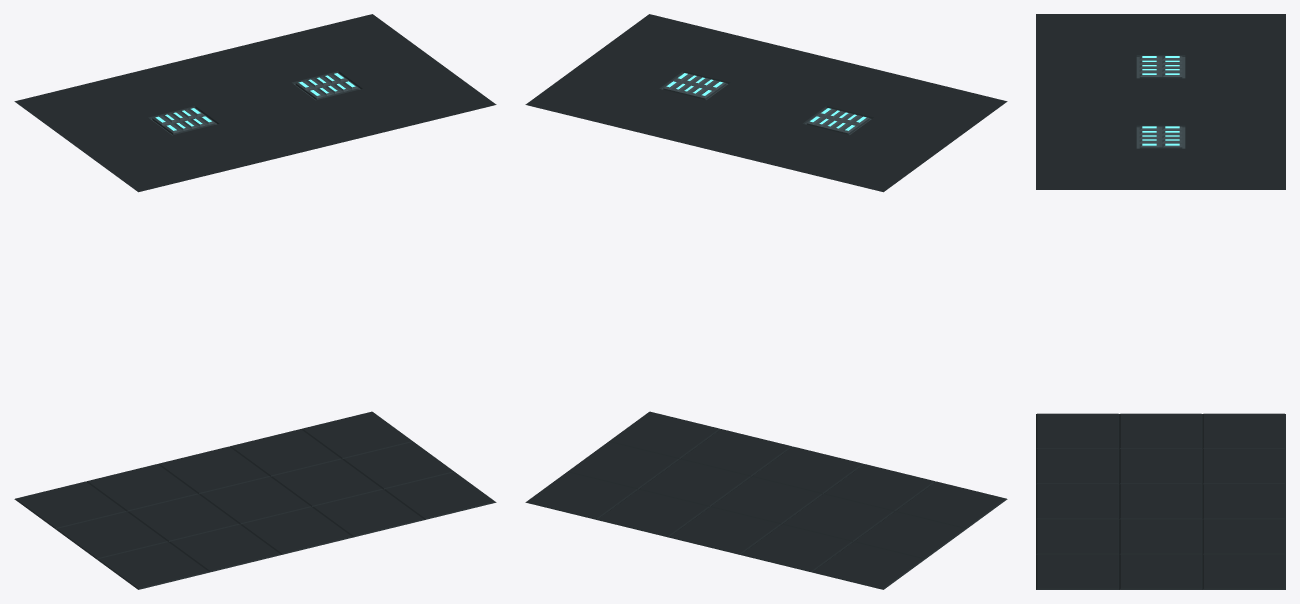
Rendered from hallC90Mid02.fbx.
3 views of the same model, side by side, from view 1: azimuth 30°, elevation 25°; view 2: azimuth 150°, elevation 25°; view 3: azimuth 270°, elevation 25° (orthographic).
Visible parts, largest first — view 1: hallC90Mid02; view 2: hallC90Mid02; view 3: hallC90Mid02.
Part boxes in pixels (x1,y1,x2,y2): hallC90Mid02: (14,14,496,589); hallC90Mid02: (525,14,1007,589); hallC90Mid02: (1036,14,1285,589).
Size of what is drawn, in the model's own units: 10 by 6 by 10.64.
